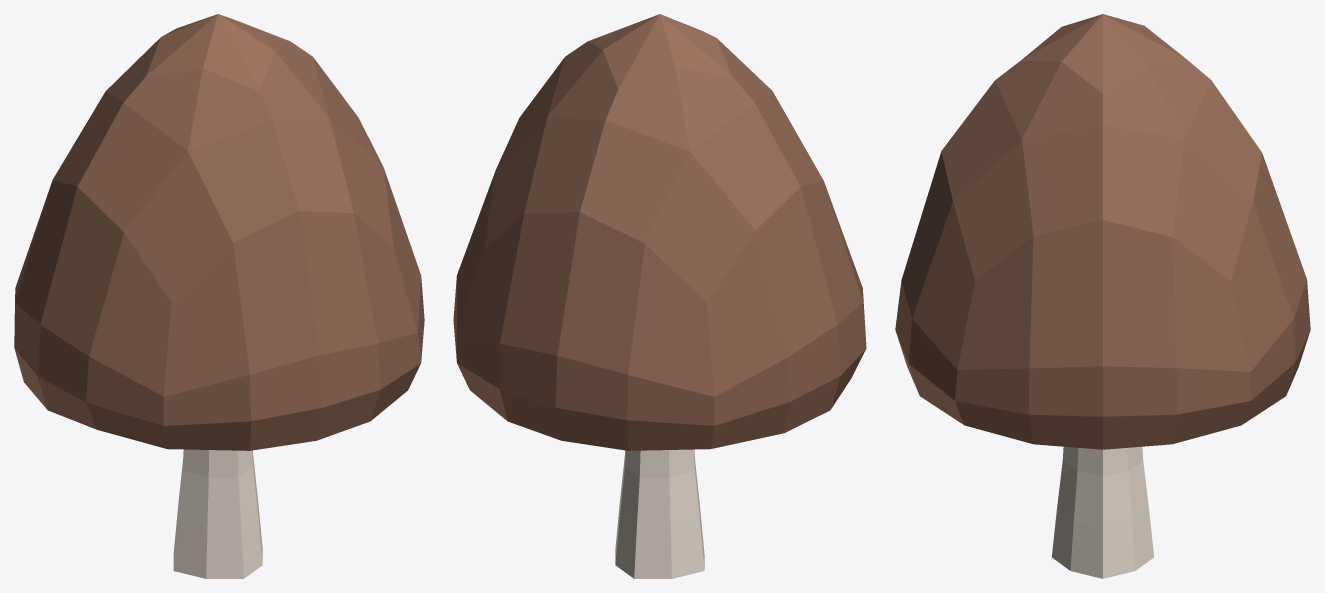
File: large_mushroom.fbx
3 renders of one model, left to right at view 1: azimuth 30°, elevation 25°; view 2: azimuth 150°, elevation 25°; view 3: azimuth 270°, elevation 25°, orthographic.
Visible parts, largest first — view 1: large_mushroom; view 2: large_mushroom; view 3: large_mushroom.
Part boxes in pixels (x1,y1,x2,y2): large_mushroom: (14, 14, 424, 578); large_mushroom: (453, 14, 866, 578); large_mushroom: (895, 14, 1310, 578).
Size of the model in its own units: 142 by 206 by 142.
